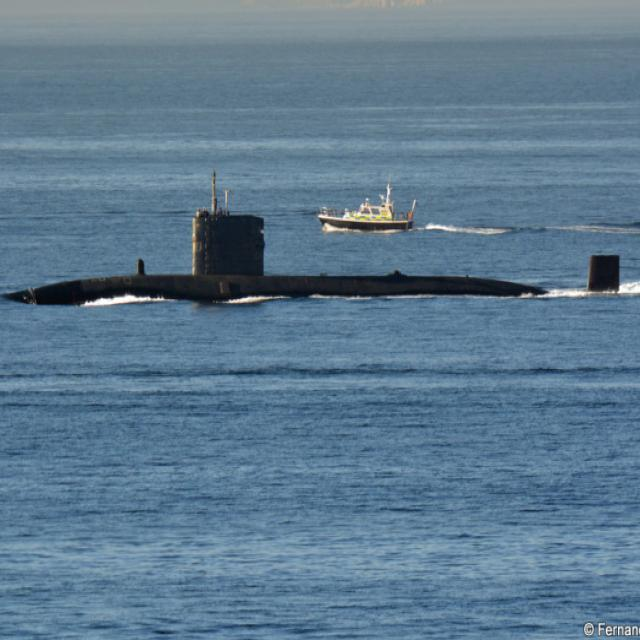submarine: (1, 211, 629, 321)
